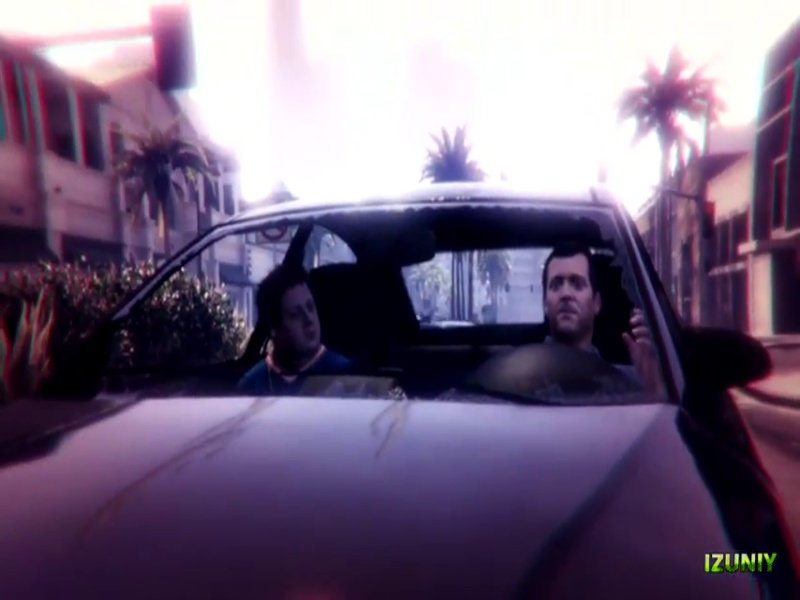human: (247, 262, 364, 389)
